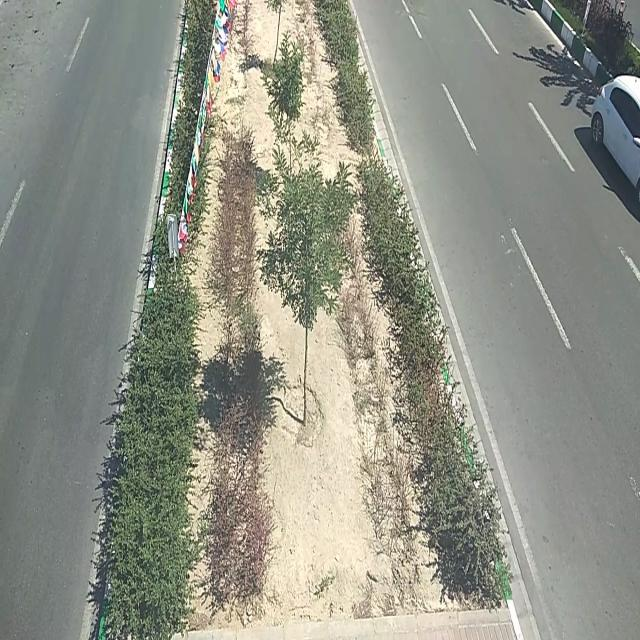car: (593, 71, 640, 197)
